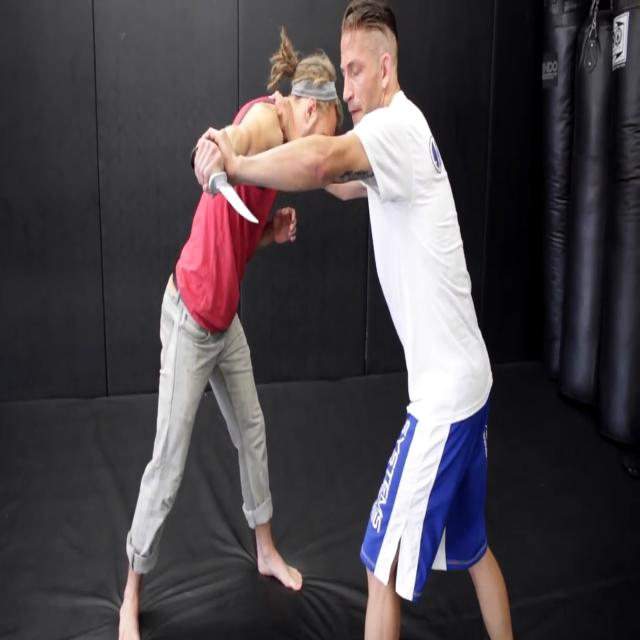knife: (212, 171, 263, 228)
